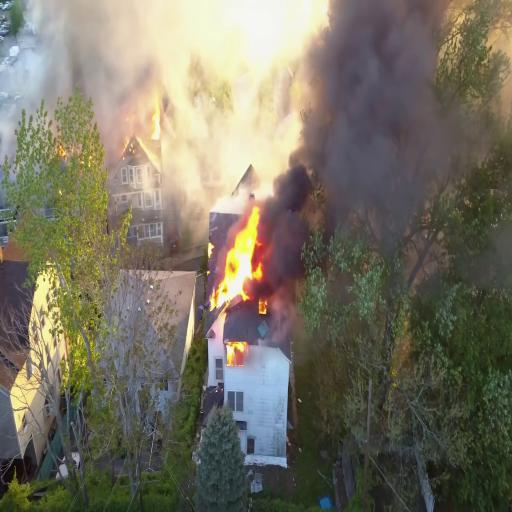fire: (206, 211, 272, 314)
smoke: (316, 81, 424, 207)
